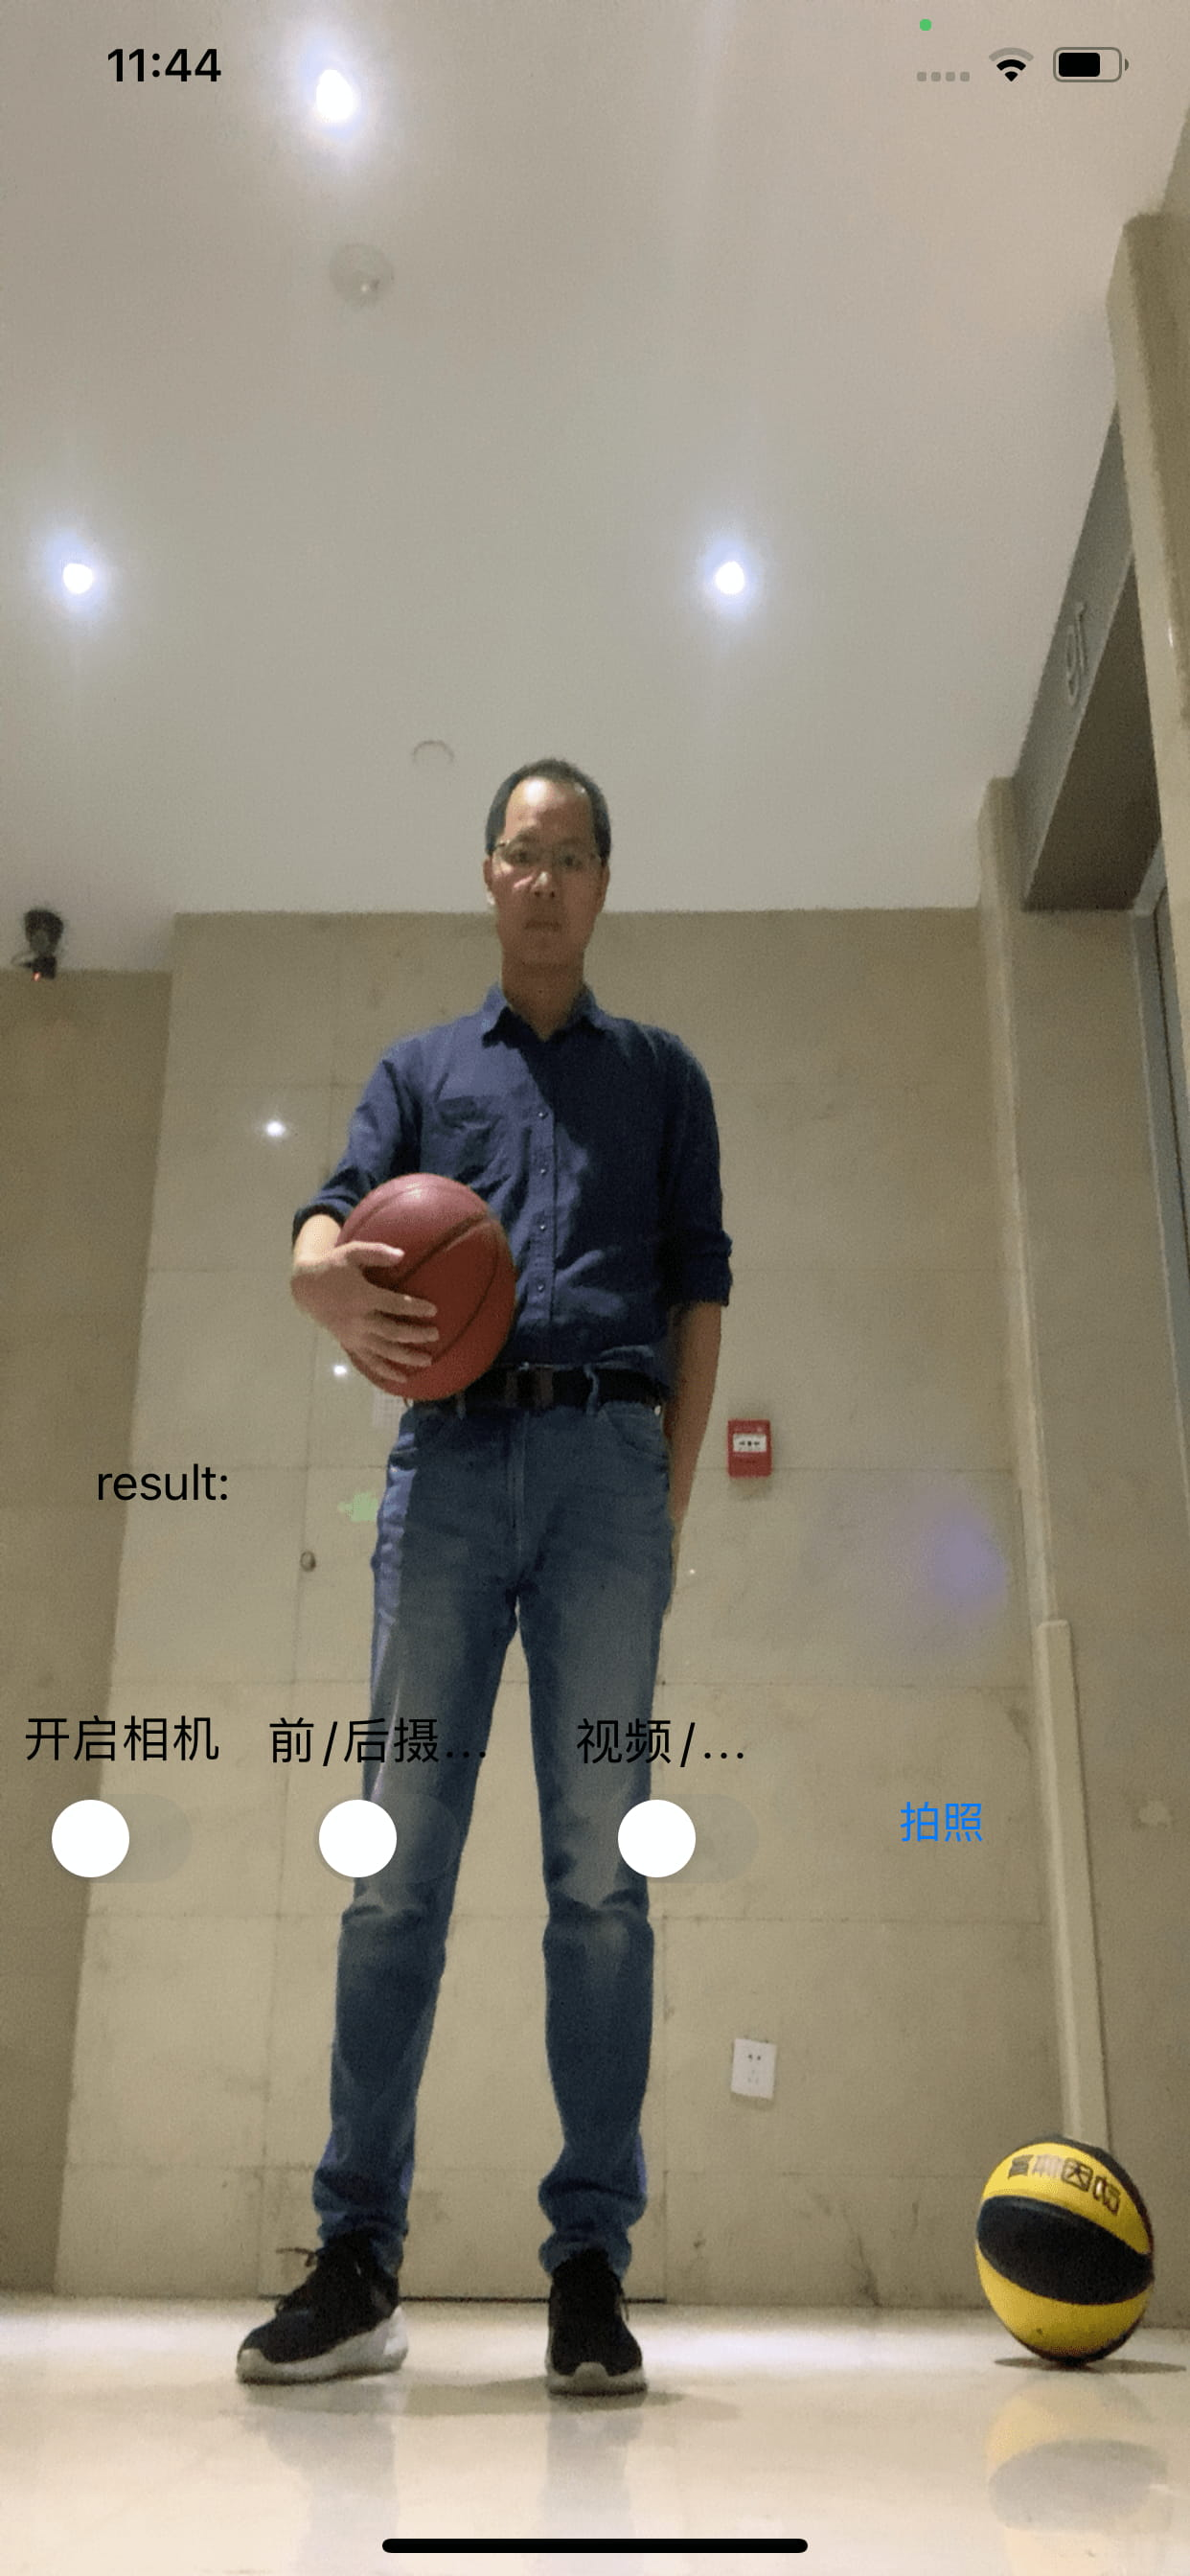ball: (327, 1170, 518, 1395), (966, 2132, 1151, 2362)
